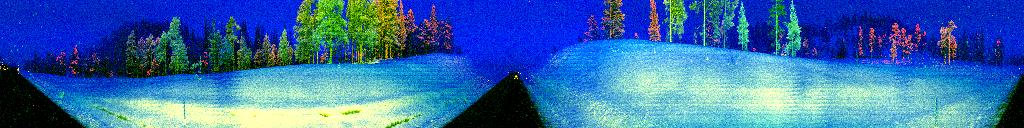pole: (932, 93, 940, 128), (181, 97, 187, 128)
